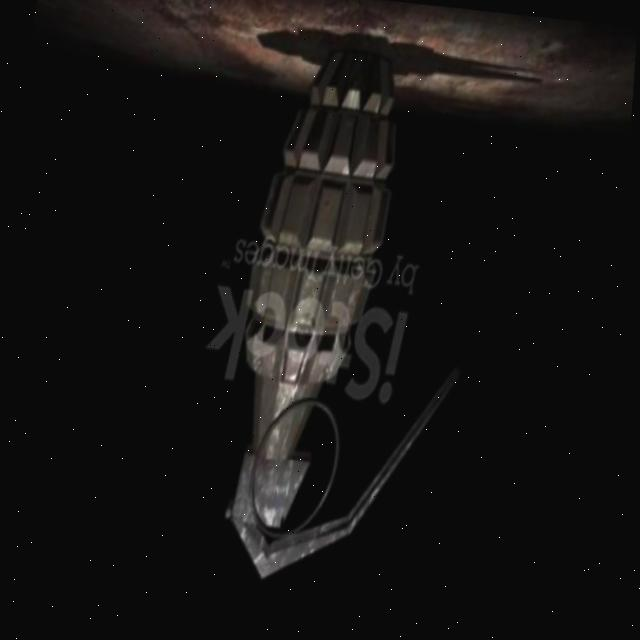grenade: (184, 30, 528, 602)
